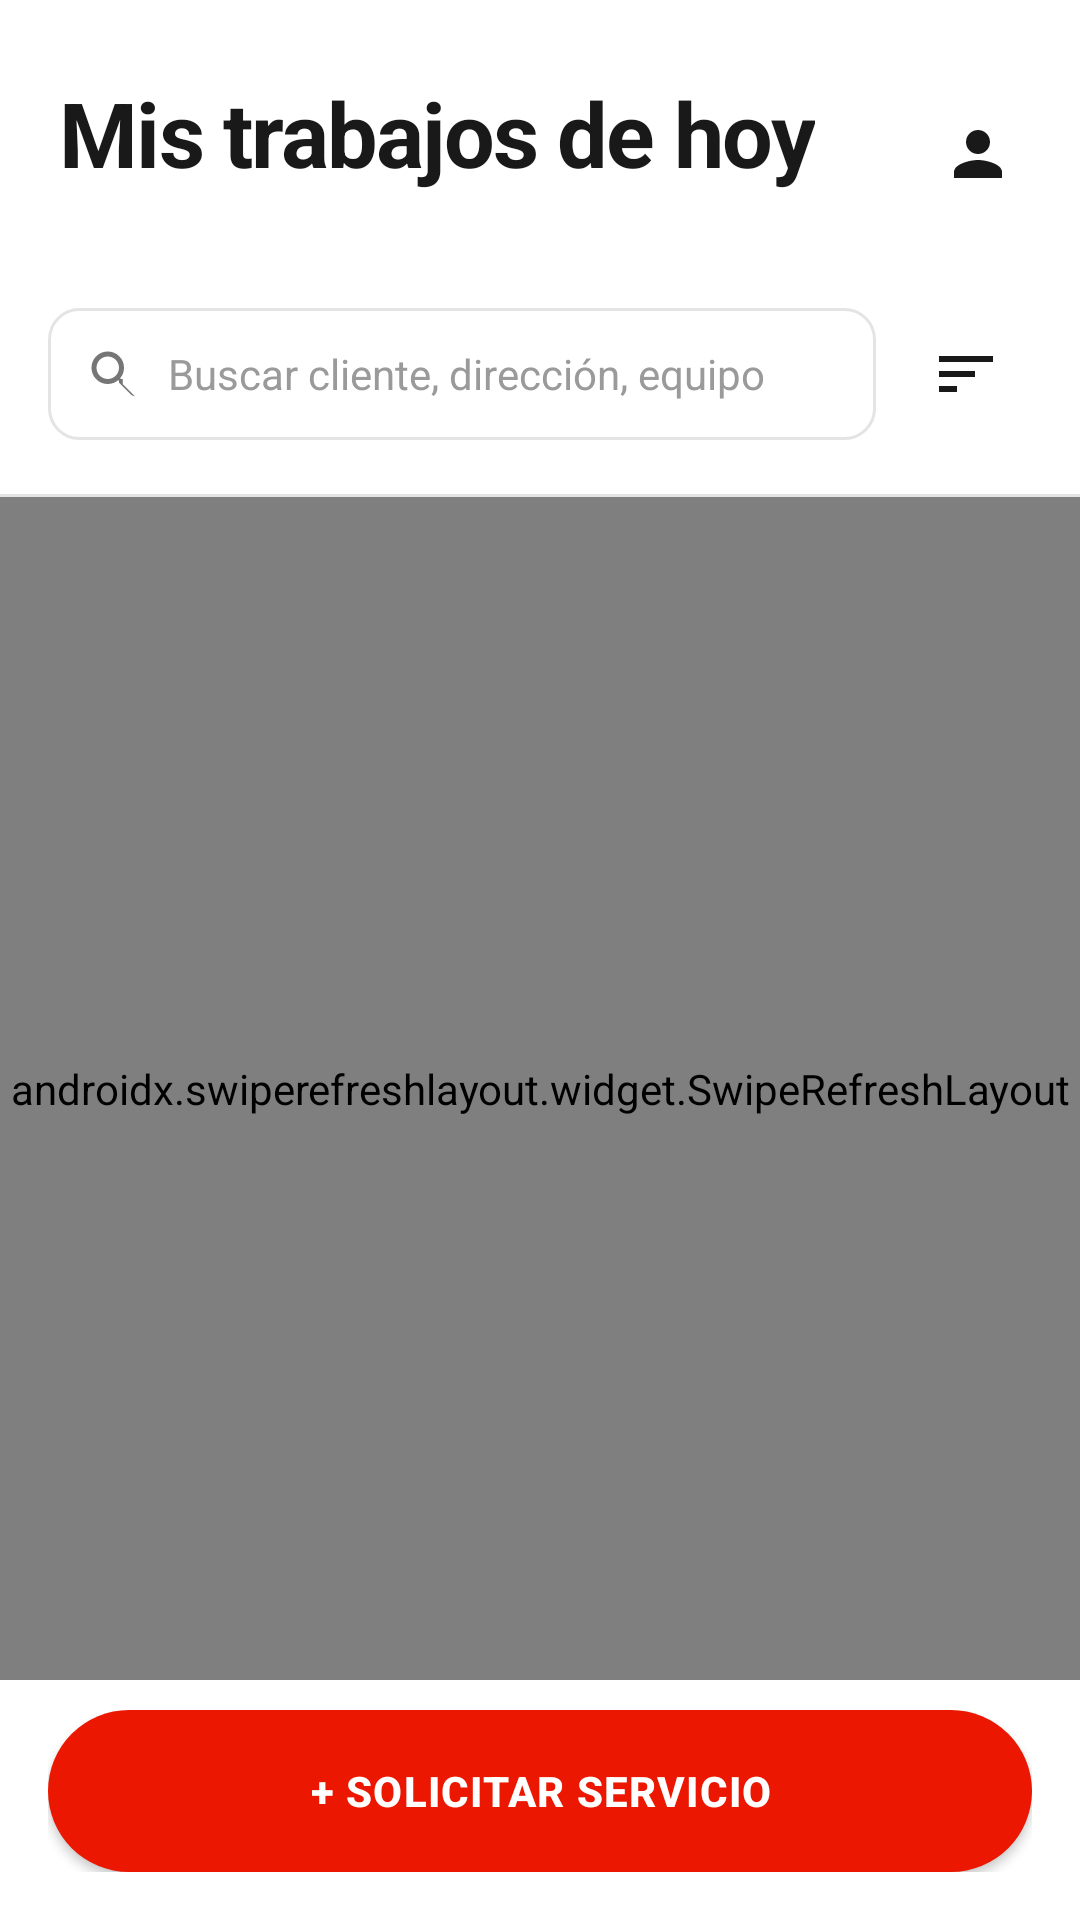

Locate icon controls on the screen. Image size 1080px x 1920px, boxes as (x1, y1, x2, y2).
Mi perfil: (954, 130, 1002, 178)
Ordenar: (939, 356, 993, 392)
